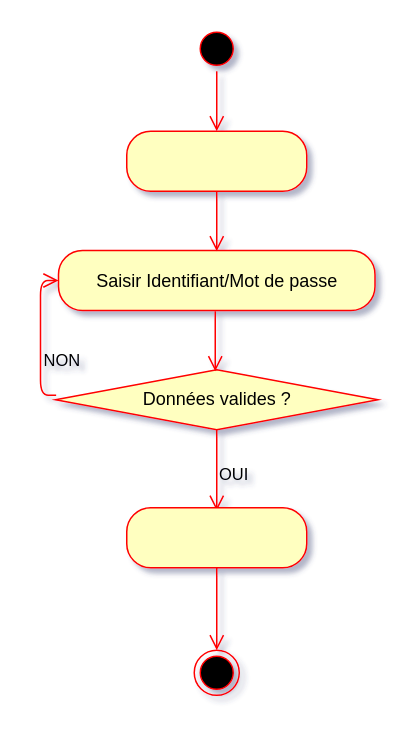
This 413x731 diagram has some shape labels left out. Each missing label, with the centre of its shape:
"Connecté" belongs at (x=216, y=537).
"S'authentifier" belongs at (x=216, y=160).
